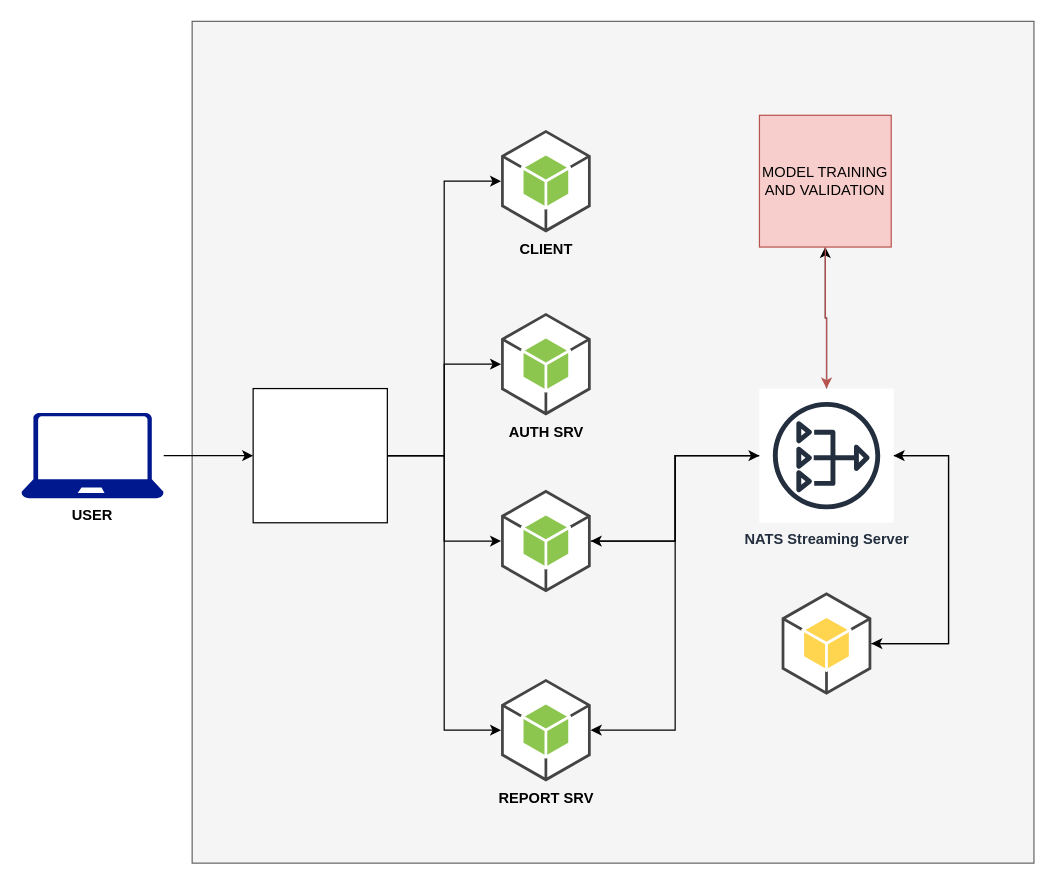
Some shapes in this 1055 by 885 pixel diagram are drawn without their labels. The shapes that lost their labels are listed below. From the top down, each one's box as (x1, y1, x2, y2) in pixels, then its label:
(252, 387, 387, 523): INGRESS NGINX GATEWAY
(500, 489, 591, 592): COMMUNICATION SRV
(780, 591, 871, 695): CHATBOT SRV
